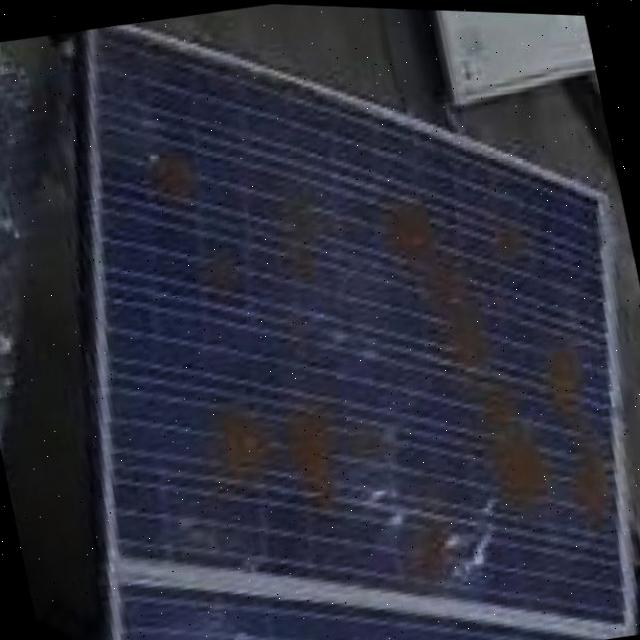Anomaly Solar Panel: (52, 25, 640, 626)
Surface Contaminant: (203, 376, 401, 523), (379, 187, 506, 374), (537, 340, 617, 518), (462, 374, 562, 509), (407, 495, 473, 581), (279, 189, 331, 287), (480, 206, 547, 272), (194, 244, 251, 309), (154, 144, 203, 201)
